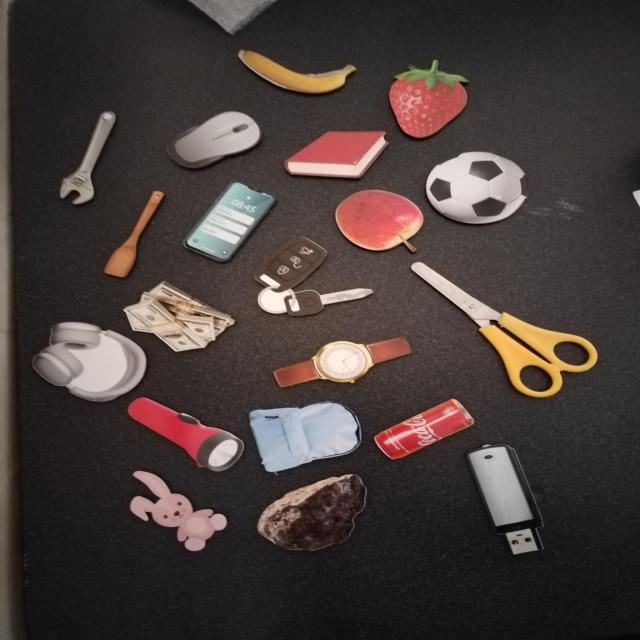Other Objects: (410, 261, 598, 398), (230, 232, 374, 341), (111, 393, 251, 478), (463, 440, 553, 558), (247, 396, 369, 475), (31, 320, 148, 402), (256, 473, 367, 552), (158, 104, 270, 177), (123, 280, 236, 352), (128, 470, 227, 552), (423, 150, 527, 226), (182, 181, 276, 263), (327, 185, 430, 257), (273, 336, 412, 388), (373, 398, 475, 460), (102, 187, 165, 279), (59, 110, 116, 205), (237, 49, 357, 94)
